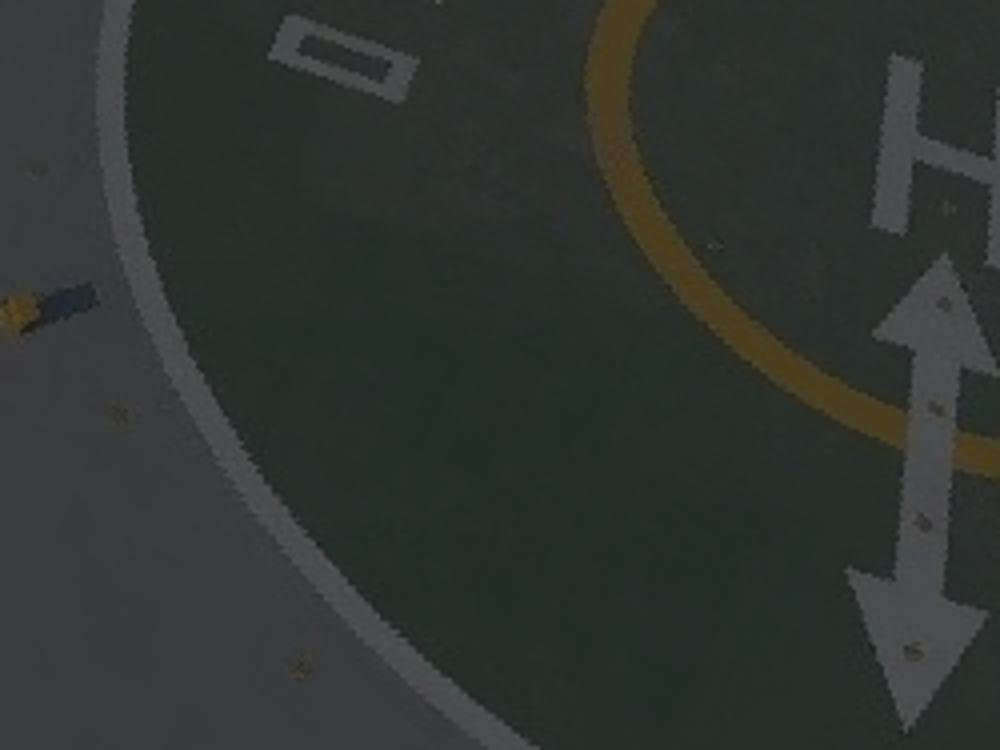Apron: (564, 5, 1000, 497)
